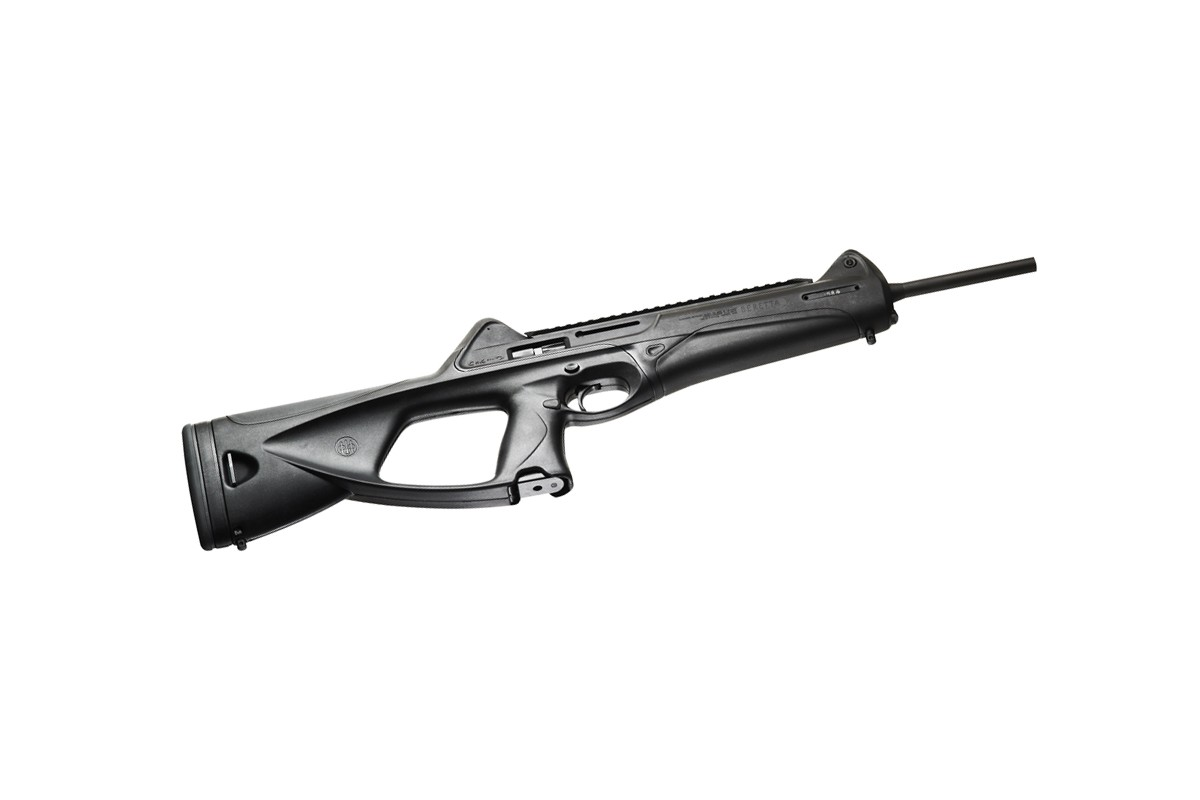weapon: (176, 251, 1039, 566)
